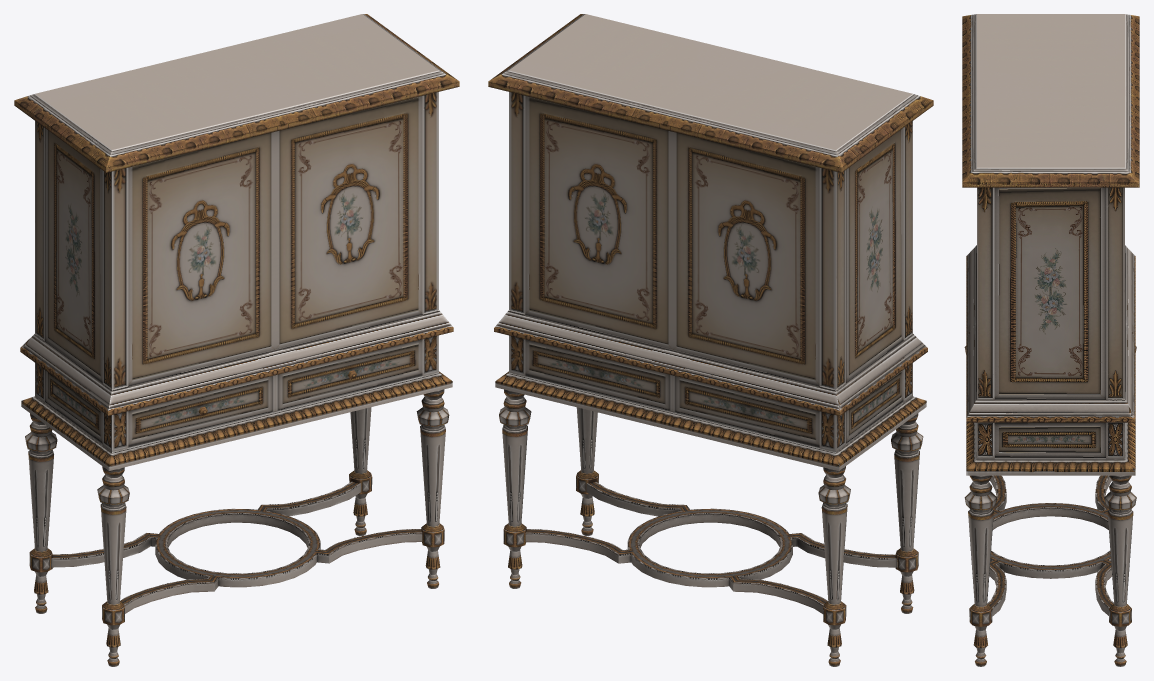
The model's file is Cabinet04.FBX.
3 views of the same model, side by side, from view 1: azimuth 30°, elevation 25°; view 2: azimuth 150°, elevation 25°; view 3: azimuth 270°, elevation 25° (orthographic). The views are drawn at different scales.
Parts seen in each view (by area): view 1: Cabinet04; view 2: Cabinet04; view 3: Cabinet04.
Boxes of the visible parts, x1,y1,x2,y2 form: Cabinet04: [14, 14, 459, 666]; Cabinet04: [488, 14, 933, 666]; Cabinet04: [962, 14, 1139, 666].
Size of the model in its own units: 165 by 74.68 by 231.
